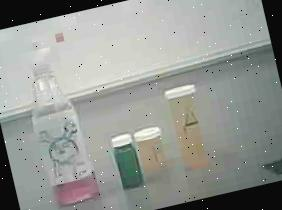Bottle A: (162, 83, 216, 173)
Bottle B: (135, 124, 174, 175)
Bottle C: (106, 129, 147, 192)
hazard: (14, 28, 109, 209)
